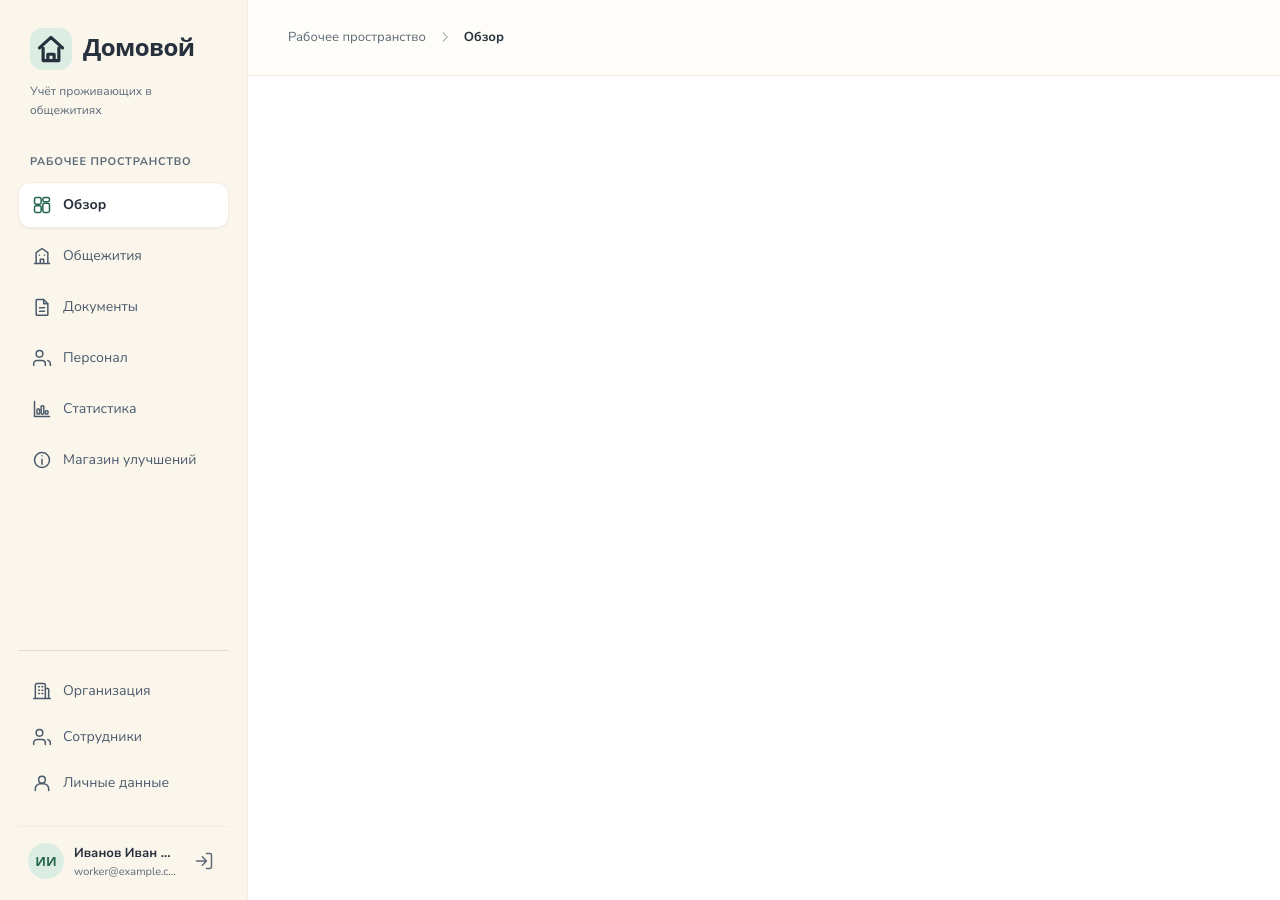
Test: пункты меню учётной записи › ставит «Организацию» выше «Личных данных» и ведёт на свой адрес
The width and height of the screenshot is (1280, 900).
Step 1. Click the link with test id "workspace-nav-organization" → x=91, y=691, box [32, 681, 151, 701]
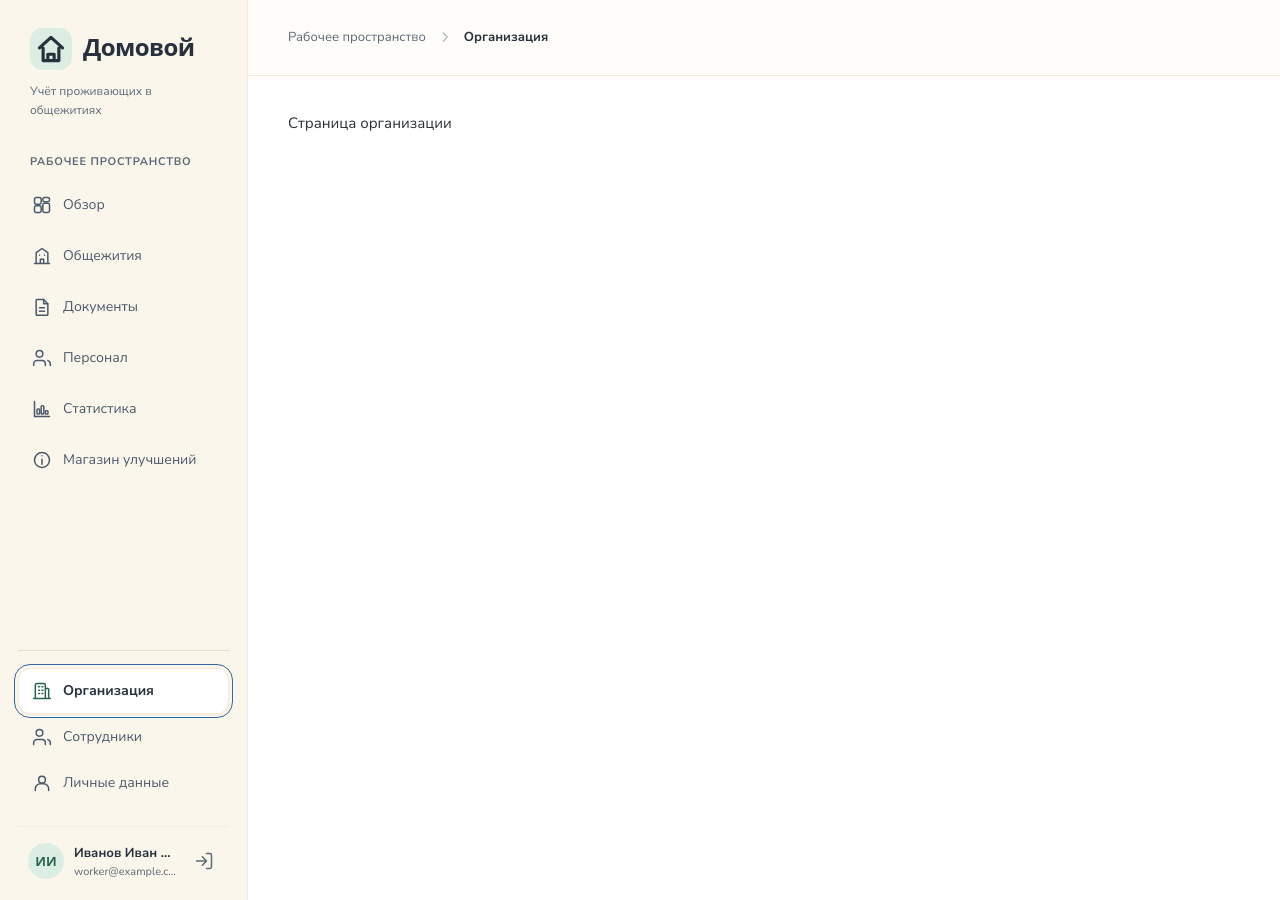
Expected: the text "Страница организации" is shown, [288, 113, 452, 133]
